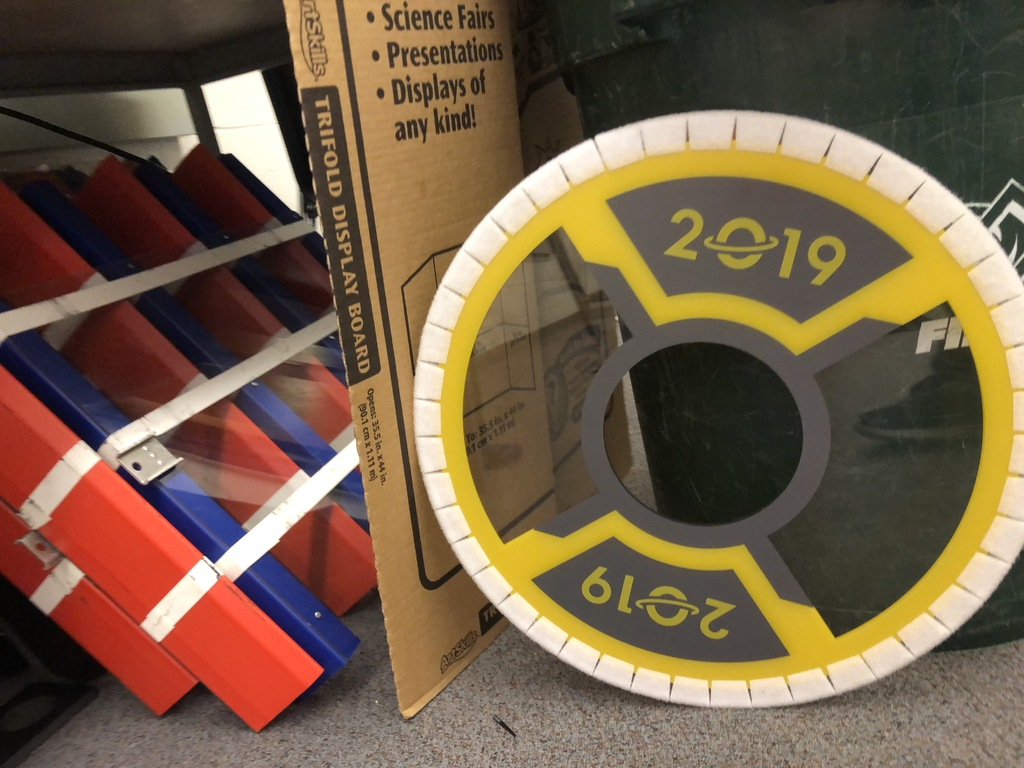hatch_panel: (383, 101, 1015, 709)
